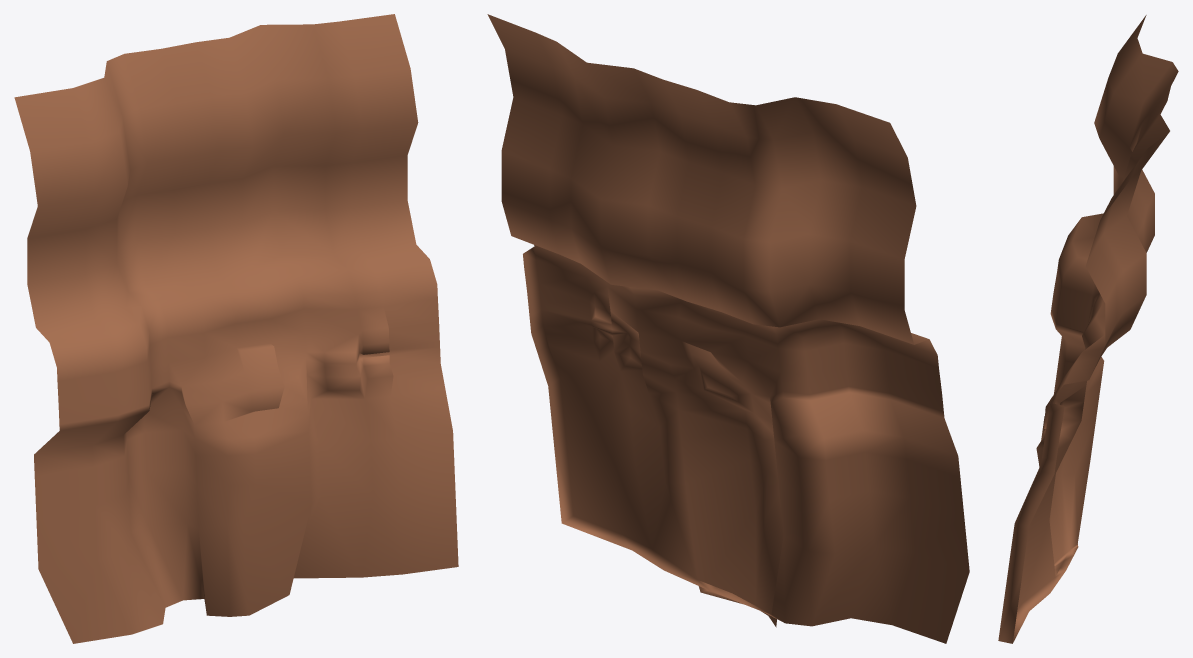
File: Aqua_RockWall.fbx
3 views of the same model, side by side, from view 1: azimuth 30°, elevation 25°; view 2: azimuth 150°, elevation 25°; view 3: azimuth 270°, elevation 25° (orthographic). The views are drawn at different scales.
Parts seen in each view (by area): view 1: Aqua_RockWall; view 2: Aqua_RockWall; view 3: Aqua_RockWall.
Part boxes in pixels (x1=…): Aqua_RockWall: x1=14, y1=14, x2=458, y2=643; Aqua_RockWall: x1=487, y1=14, x2=969, y2=643; Aqua_RockWall: x1=998, y1=15, x2=1178, y2=643.
Size of the model in its own units: 59.07 by 74.07 by 25.08.
